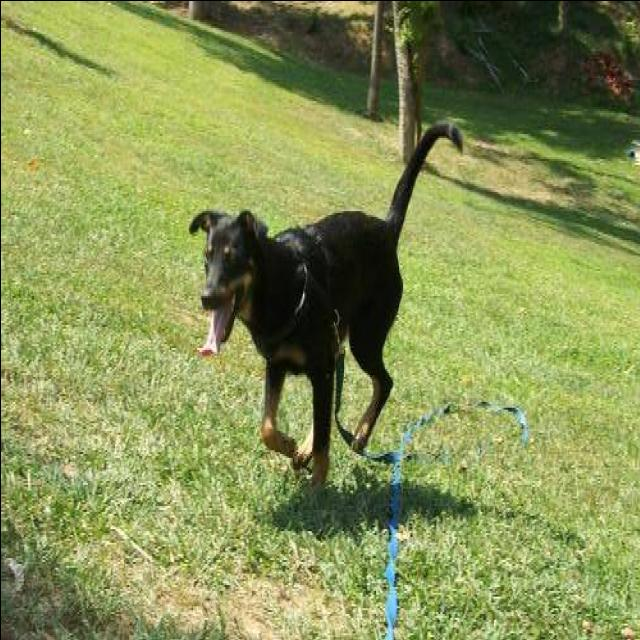dog: (164, 86, 478, 510)
